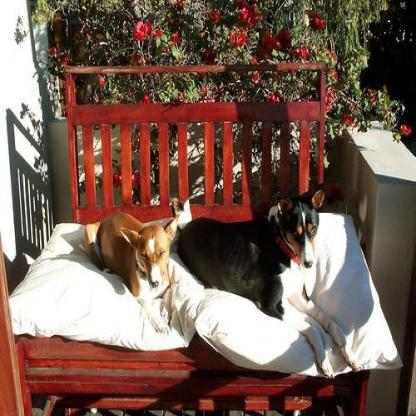basenji: (168, 178, 362, 380), (83, 210, 179, 332)
